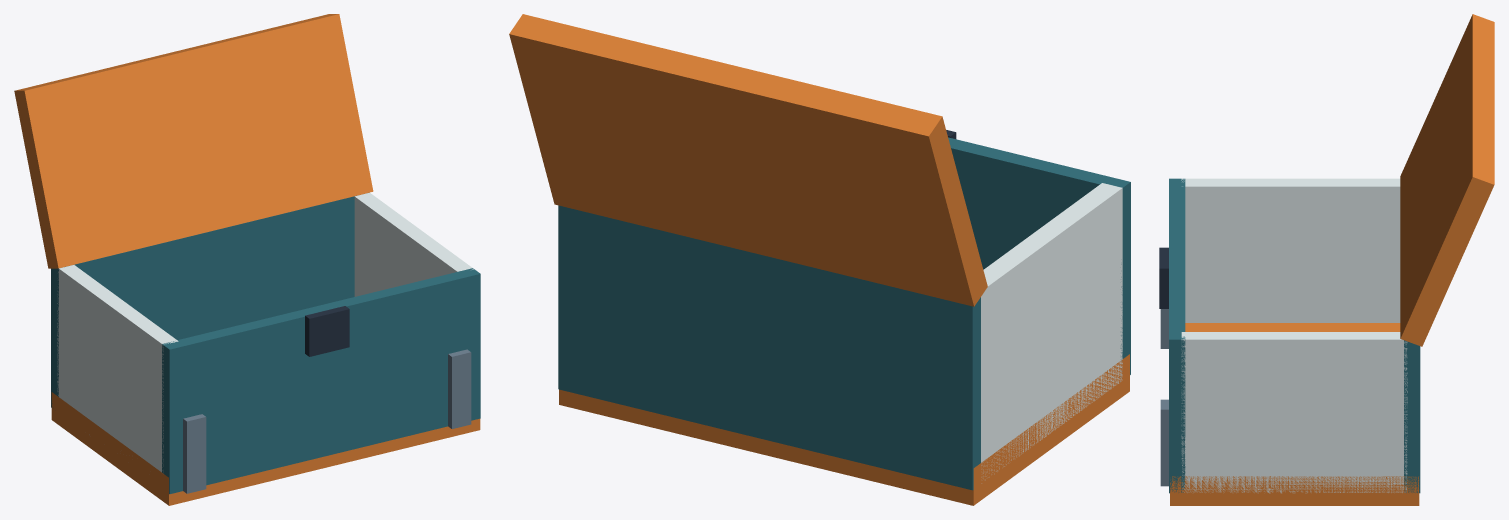
The picture shows the model from 3 angles, left to right: view 1: azimuth 30°, elevation 25°; view 2: azimuth 150°, elevation 25°; view 3: azimuth 270°, elevation 25°; orthographic projection. The views are drawn at different scales.
Visible parts, largest first — view 1: raised lid, panel 0.5, panel -0.5, end panel -0.77, floor, end panel 0.77, clasp, corner 0.69, corner -0.69; view 2: raised lid, panel -0.5, end panel -0.77, floor, panel 0.5; view 3: end panel 0.77, end panel -0.77, raised lid, floor, panel 0.5, panel -0.5, corner 0.69, clasp.
Part boxes in pixels (x1,y1,x2,y2): raised lid: [14, 14, 373, 268]; panel 0.5: [162, 268, 480, 494]; panel -0.5: [51, 195, 356, 407]; end panel -0.77: [57, 265, 178, 472]; floor: [51, 392, 480, 505]; end panel 0.77: [354, 192, 473, 296]; clasp: [305, 306, 349, 356]; corner 0.69: [448, 349, 471, 428]; corner -0.69: [183, 414, 206, 493]; raised lid: [509, 14, 987, 306]; panel -0.5: [558, 205, 980, 490]; end panel -0.77: [981, 183, 1122, 483]; floor: [559, 354, 1129, 505]; panel 0.5: [948, 137, 1130, 377]; end panel 0.77: [1181, 332, 1407, 493]; end panel -0.77: [1181, 178, 1400, 322]; raised lid: [1400, 14, 1494, 346]; floor: [1170, 323, 1419, 505]; panel 0.5: [1169, 178, 1185, 493]; panel -0.5: [1404, 340, 1420, 493]; corner 0.69: [1160, 399, 1168, 486]; clasp: [1159, 247, 1168, 308].
Size of the model in its own units: 1.64 by 1.55 by 1.42.
